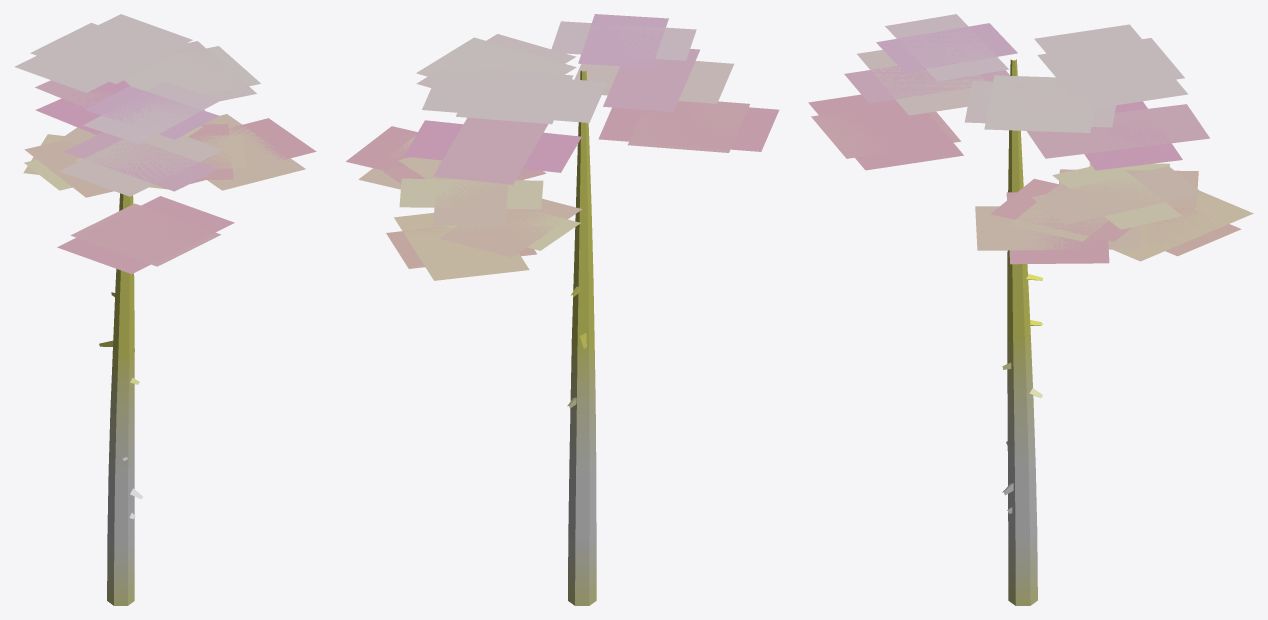
The model's file is tree_pine_2.glb.
3 views of the same model, side by side, from view 1: azimuth 30°, elevation 25°; view 2: azimuth 150°, elevation 25°; view 3: azimuth 270°, elevation 25° (orthographic). The views are drawn at different scales.
Parts seen in each view (by area): view 1: tree_pine_2; view 2: tree_pine_2; view 3: tree_pine_2.
Boxes of the visible parts, x1,y1,x2,y2 form: tree_pine_2: (14, 14, 316, 605); tree_pine_2: (345, 14, 779, 605); tree_pine_2: (808, 14, 1253, 605).
Bounding box in the file's own units: 6.64 × 10.61 × 7.78.
